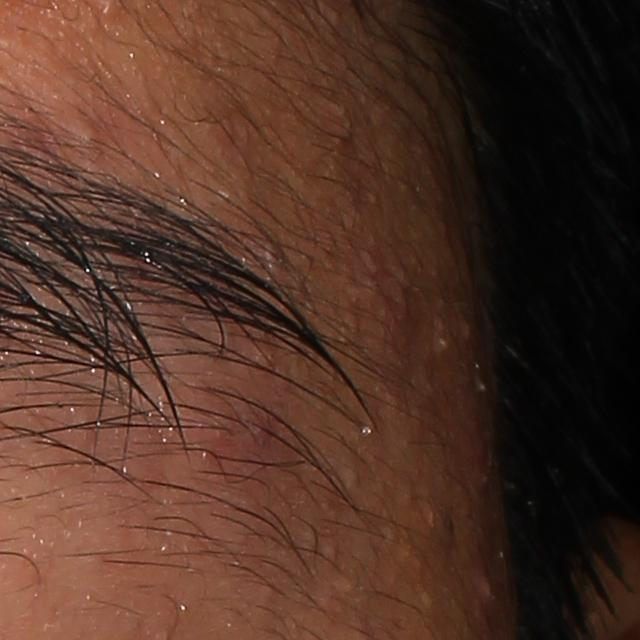comedo: (357, 255, 405, 355), (73, 110, 101, 150), (317, 538, 342, 572)
